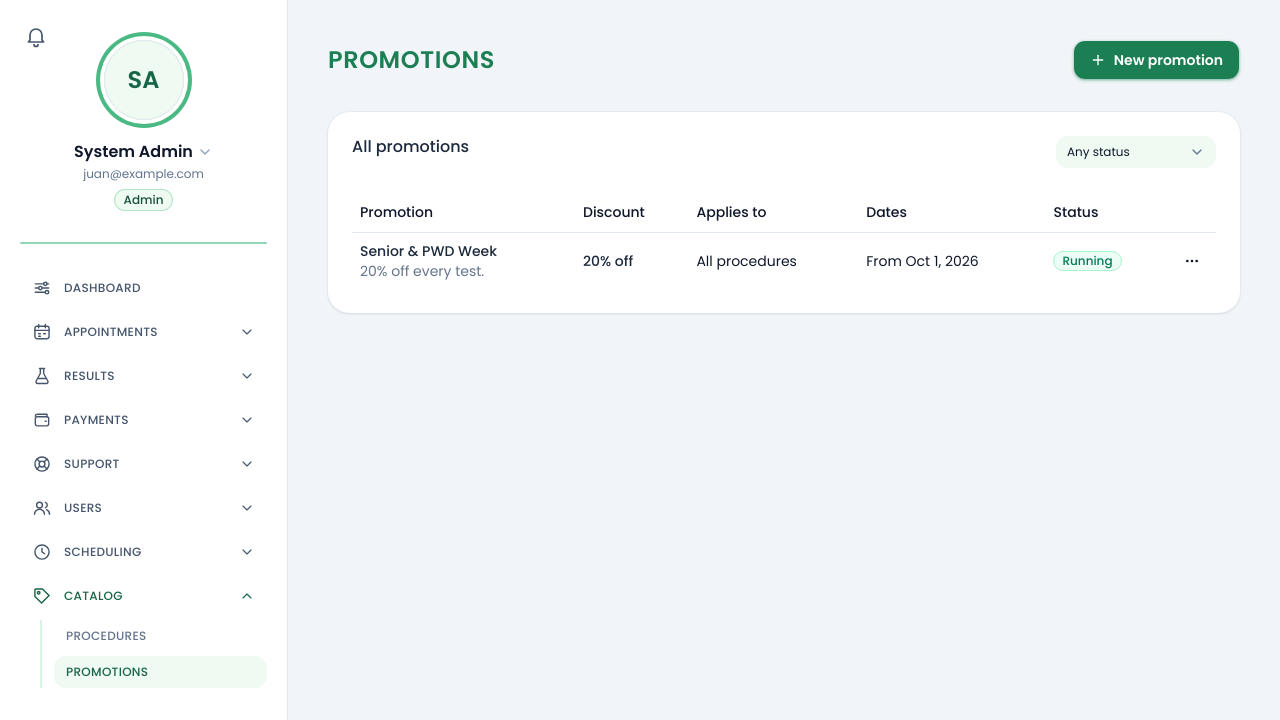
Test: PromotionsPage › turns a promotion off after confirming
Click the button named "Actions for Senior & PWD Week".
click(1192, 260)  # box [1176,244,1208,276]
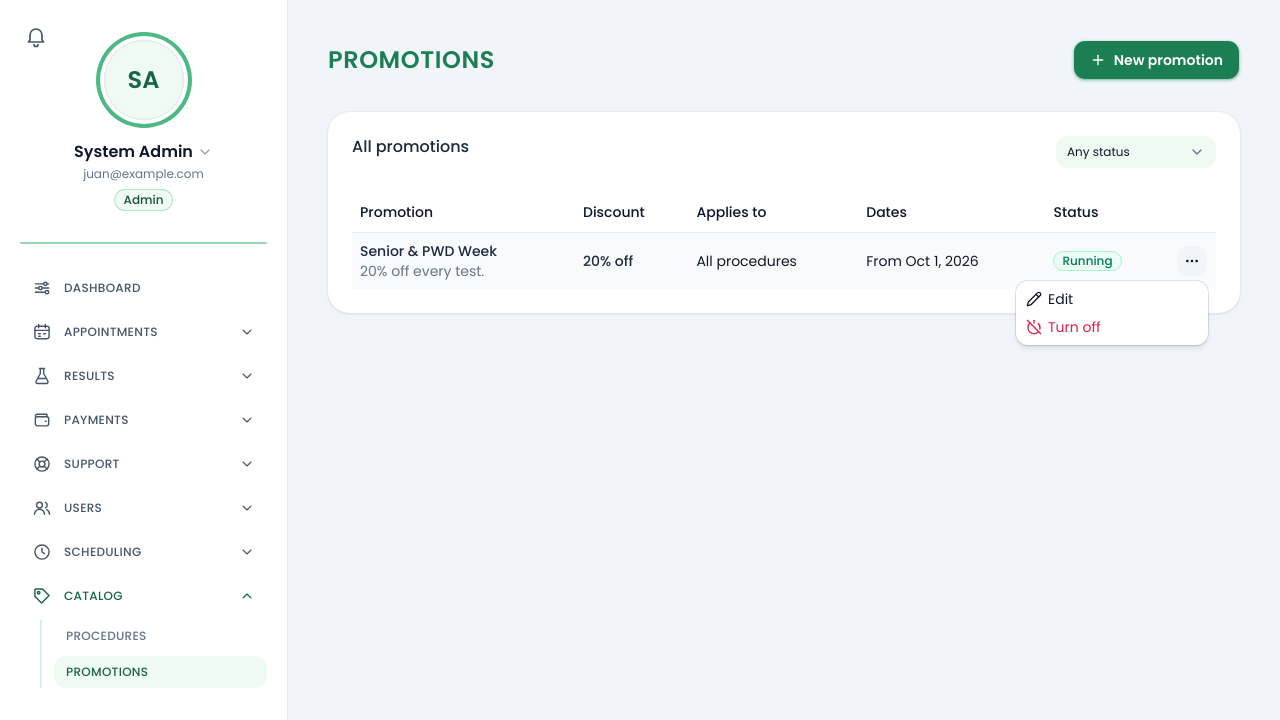
Click the menu item "Turn off".
click(1063, 327)  # box [1026,317,1101,337]
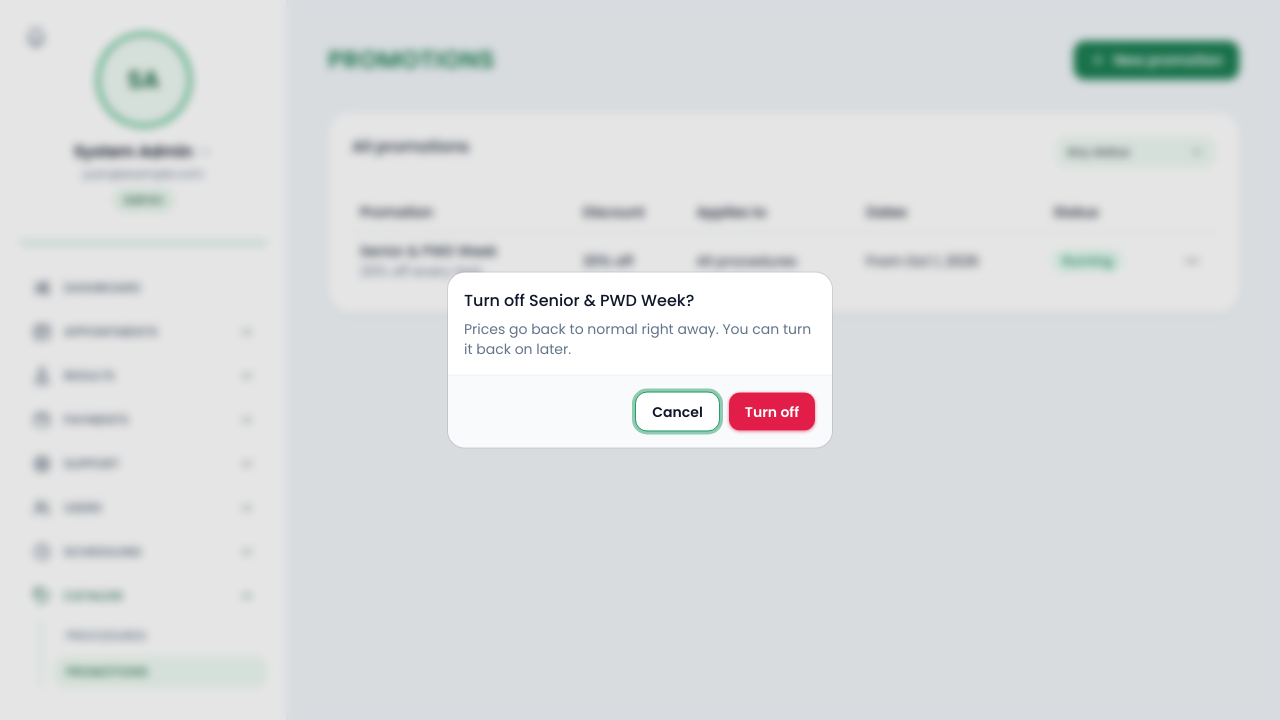
Click the button "Turn off".
click(772, 412)  # box [728,392,816,432]
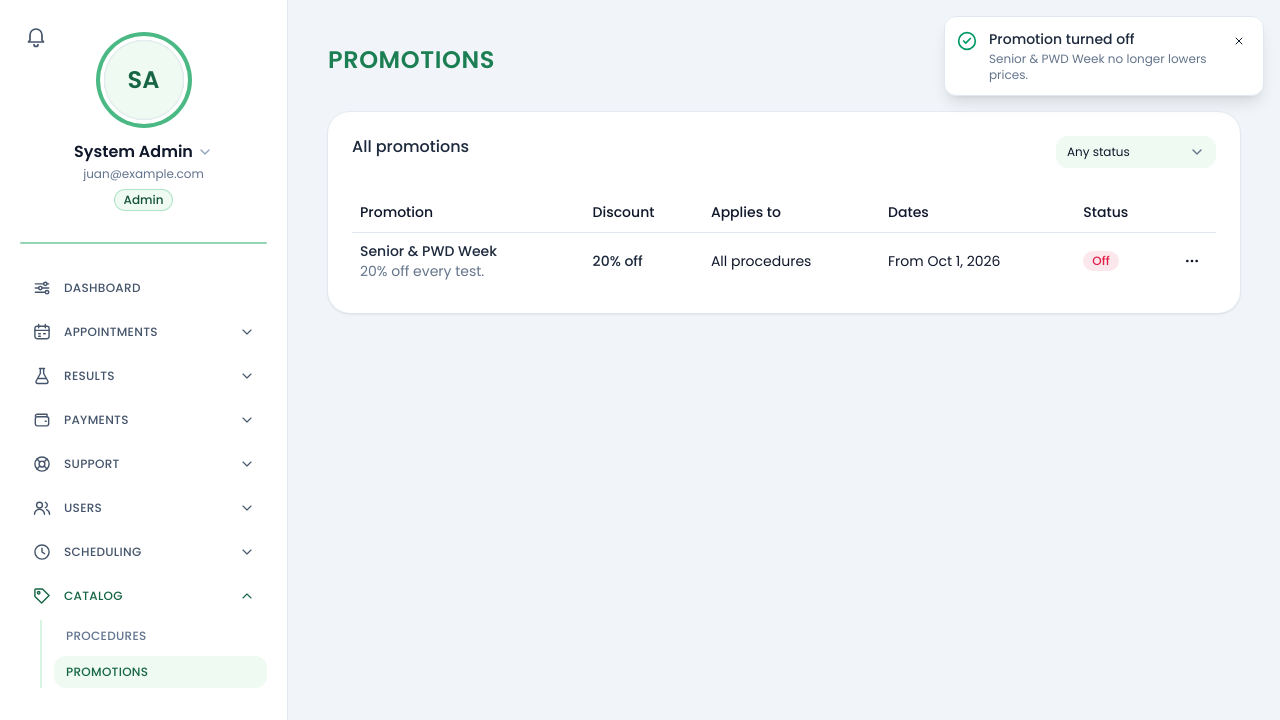
Result: the text "Promotion turned off" is shown at [989,29,1134,49]
Result: the icon "Off" is shown at [1083,251,1119,271]
